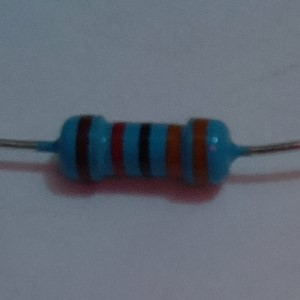black_band: (136, 120, 155, 179)
brown_band: (72, 112, 96, 183)
orange_band: (191, 115, 212, 189), (163, 122, 185, 183)
red_band: (108, 118, 128, 180)
